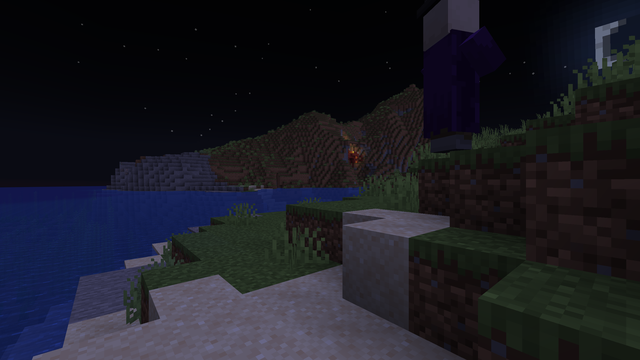sorcieres: (416, 1, 482, 153)
